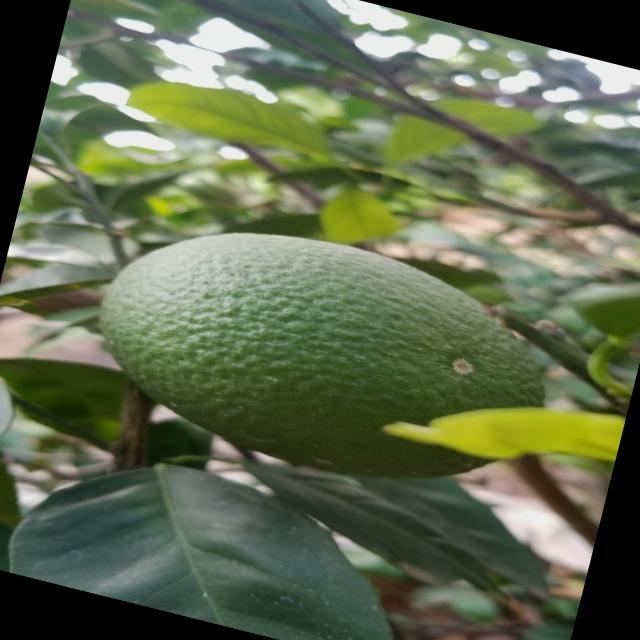agrume: (63, 182, 585, 533)
